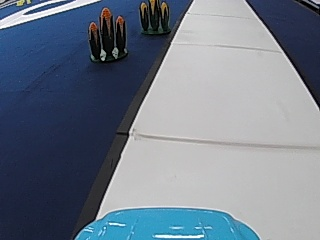corn: (86, 4, 129, 61), (137, 0, 172, 35)
